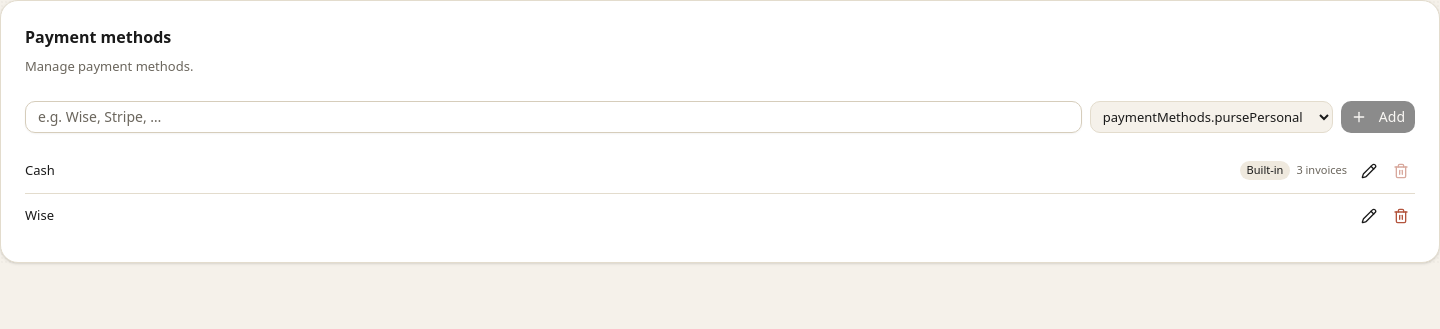
PaymentMethodsSection — inline edit / rename › clicking edit on any method (including builtin) opens inline input
Click the button named "Edit \"Cash\"": {"x": 1369, "y": 170} x1=1355 y1=156 x2=1383 y2=184
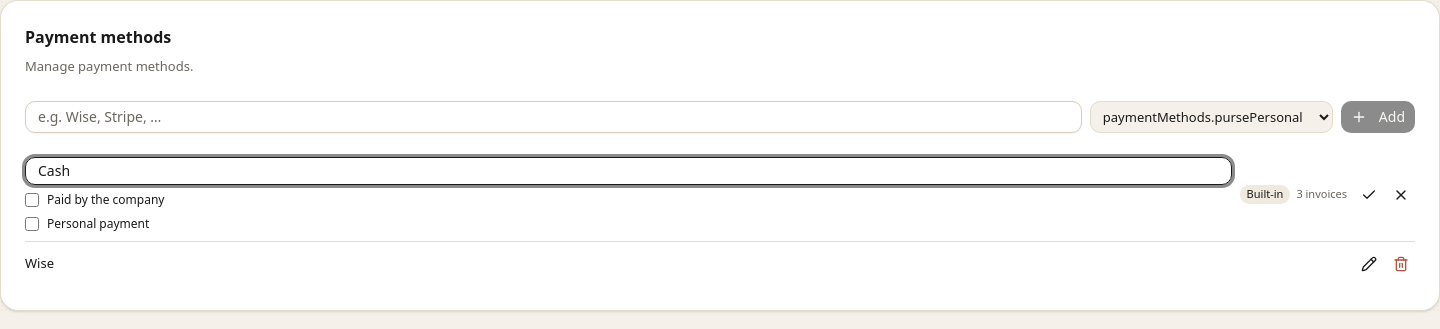
Now the field showing "Cash" is shown, box x1=25 y1=156 x2=1232 y2=184
